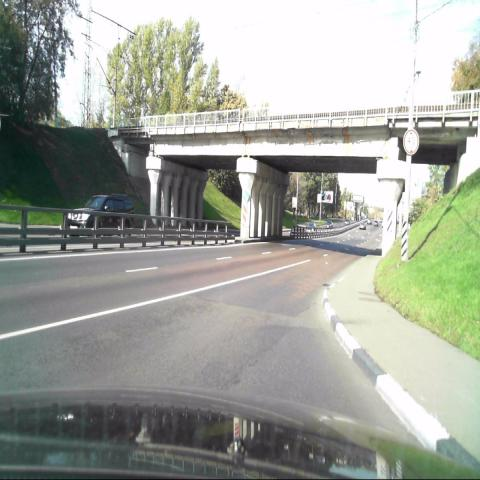3_13: (402, 127, 420, 158)
